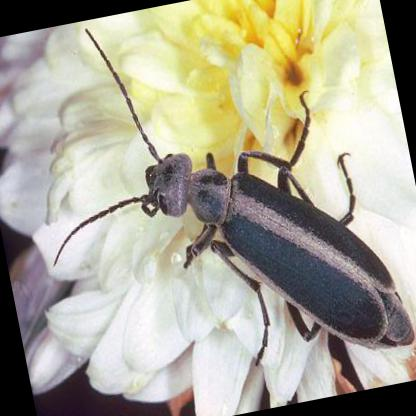blister beetle: (60, 30, 416, 370)
